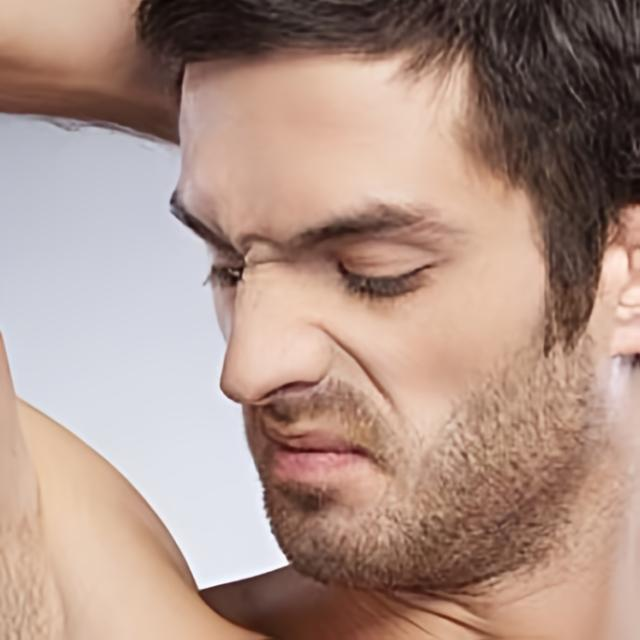disgust: (166, 28, 611, 591)
